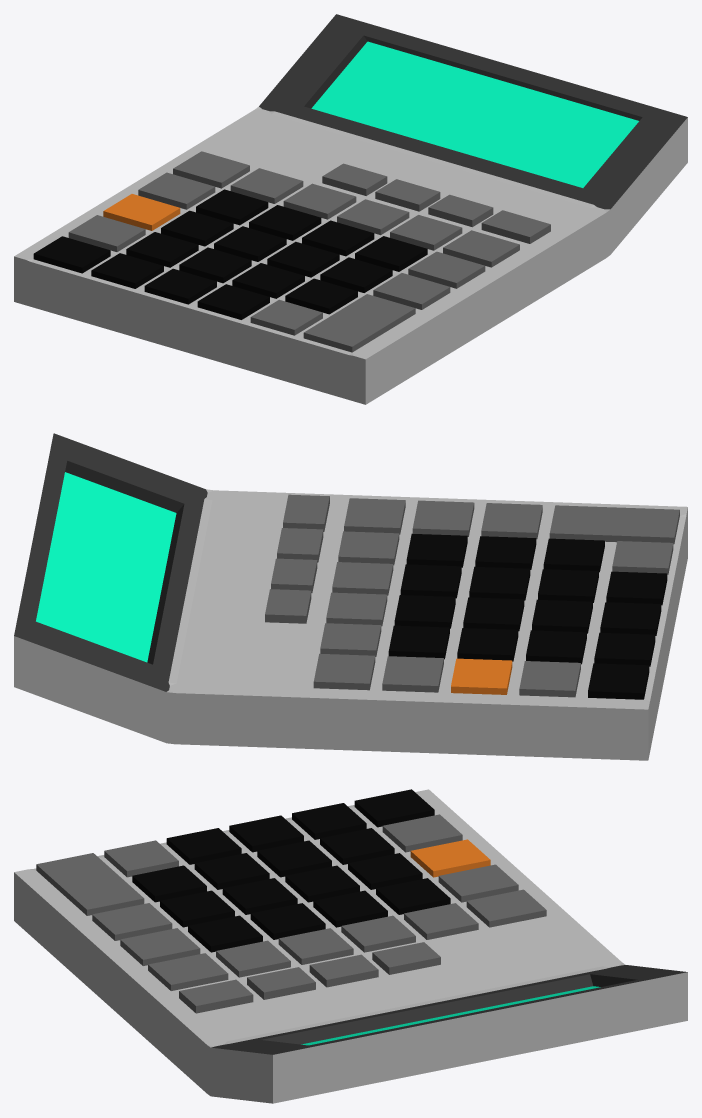
File: calculator.fbx
3 renders of one model, top to bottom at view 1: azimuth 30°, elevation 25°; view 2: azimuth 150°, elevation 25°; view 3: azimuth 270°, elevation 25°, orthographic. The views are drawn at different scales.
Parts seen in each view (by area): view 1: hesap makinesi; view 2: hesap makinesi; view 3: hesap makinesi.
Part boxes in pixels (left/top/right/bottom): hesap makinesi: left=14, top=14, right=687, bottom=404; hesap makinesi: left=14, top=433, right=687, bottom=760; hesap makinesi: left=14, top=789, right=687, bottom=1103.
Bounding box in the file's own units: 325 × 47.09 × 294.
